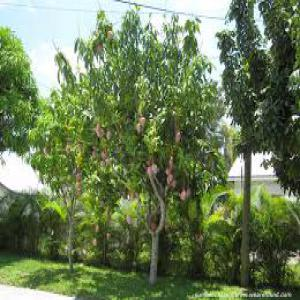Tree: (50, 11, 214, 283), (215, 3, 298, 289)
